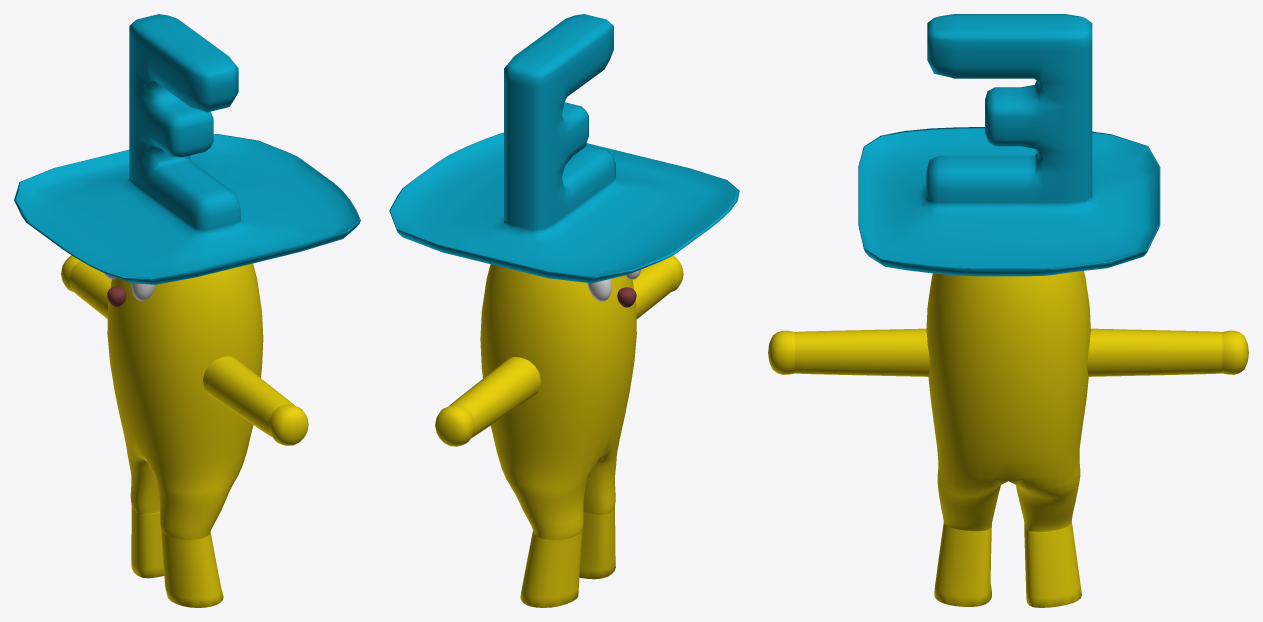
Rendered from numero 3.fbx.
3 views of the same model, side by side, from view 1: azimuth 30°, elevation 25°; view 2: azimuth 150°, elevation 25°; view 3: azimuth 270°, elevation 25° (orthographic). The views are drawn at different scales.
Parts seen in each view (by area): view 1: polySurface23; view 2: polySurface23; view 3: polySurface23.
Part boxes in pixels (x1,y1,x2,y2): polySurface23: (14, 14, 360, 607); polySurface23: (389, 14, 739, 607); polySurface23: (768, 14, 1248, 607).
Bounding box in the file's own units: 72.36 × 137 × 104.
